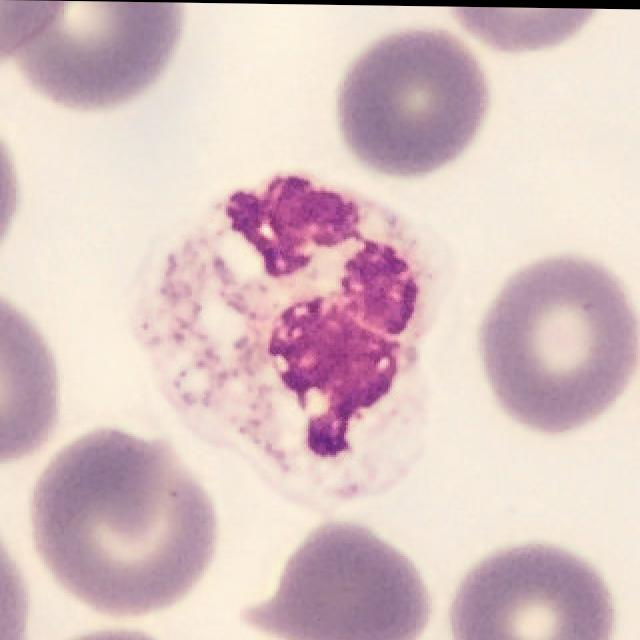Neutrofilo segmentado: (128, 171, 454, 516)
